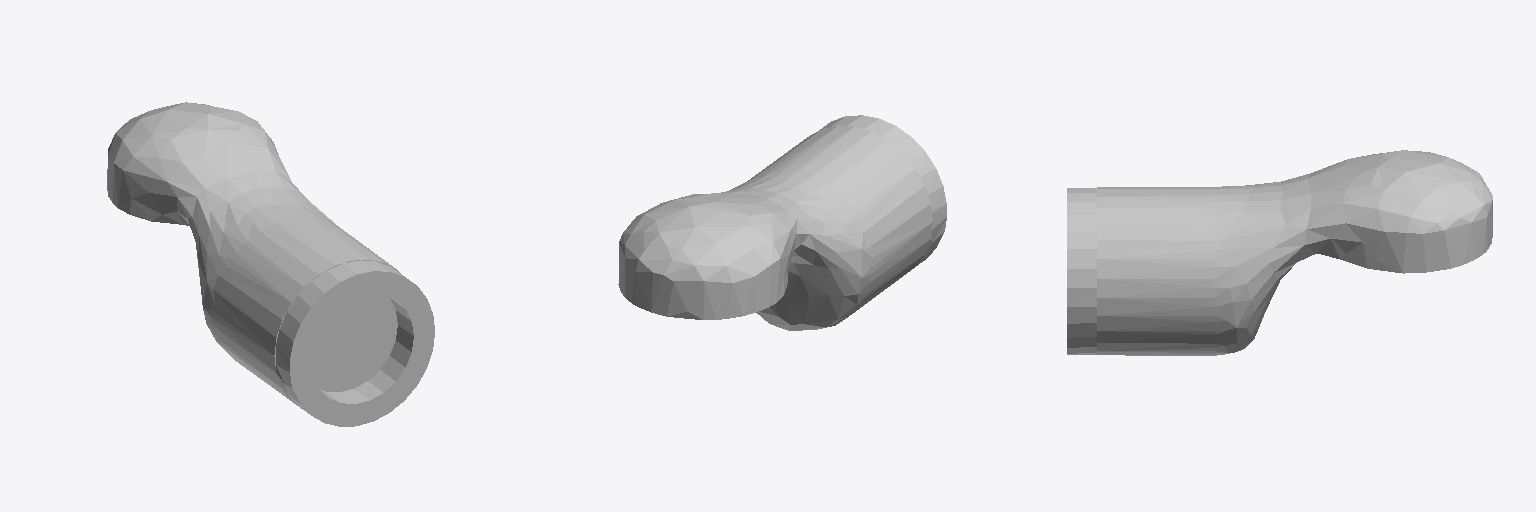
File: dual_rm_75b_description_l_link6_visuals_l_link6_mesh.obj
3 views of the same model, side by side, from view 1: azimuth 30°, elevation 25°; view 2: azimuth 150°, elevation 25°; view 3: azimuth 270°, elevation 25° (orthographic).
Bounding box in the file's own units: 0.0573 × 0.0684 × 0.1434.